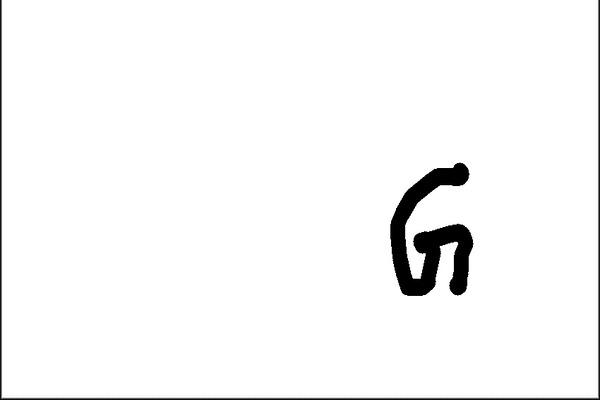G: (385, 158, 479, 299)
